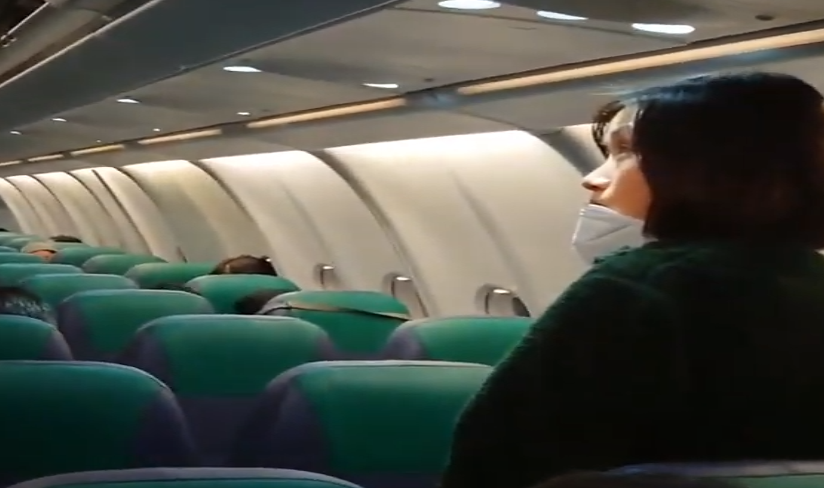mask_weared_incorrect: (566, 68, 747, 265)
